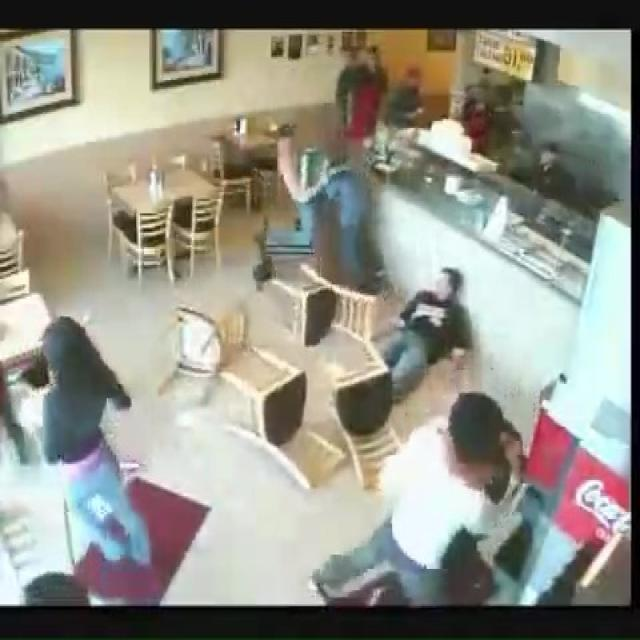fight: (306, 382, 529, 613)
